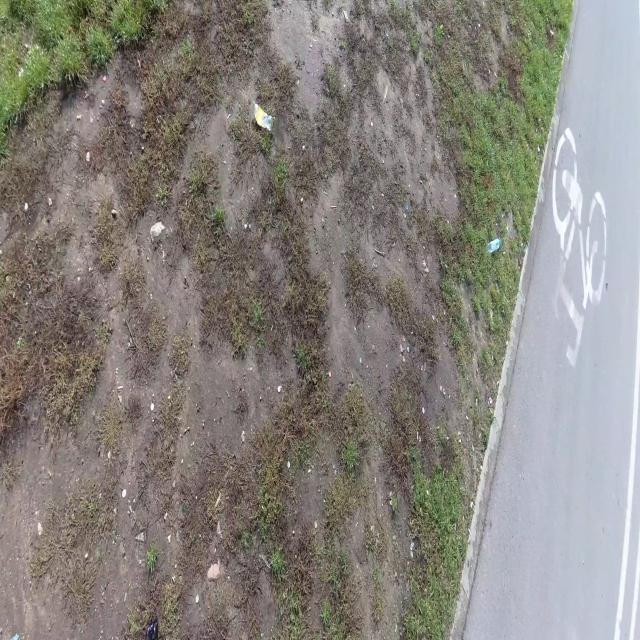rubbish: (251, 98, 275, 132), (485, 237, 501, 252)
